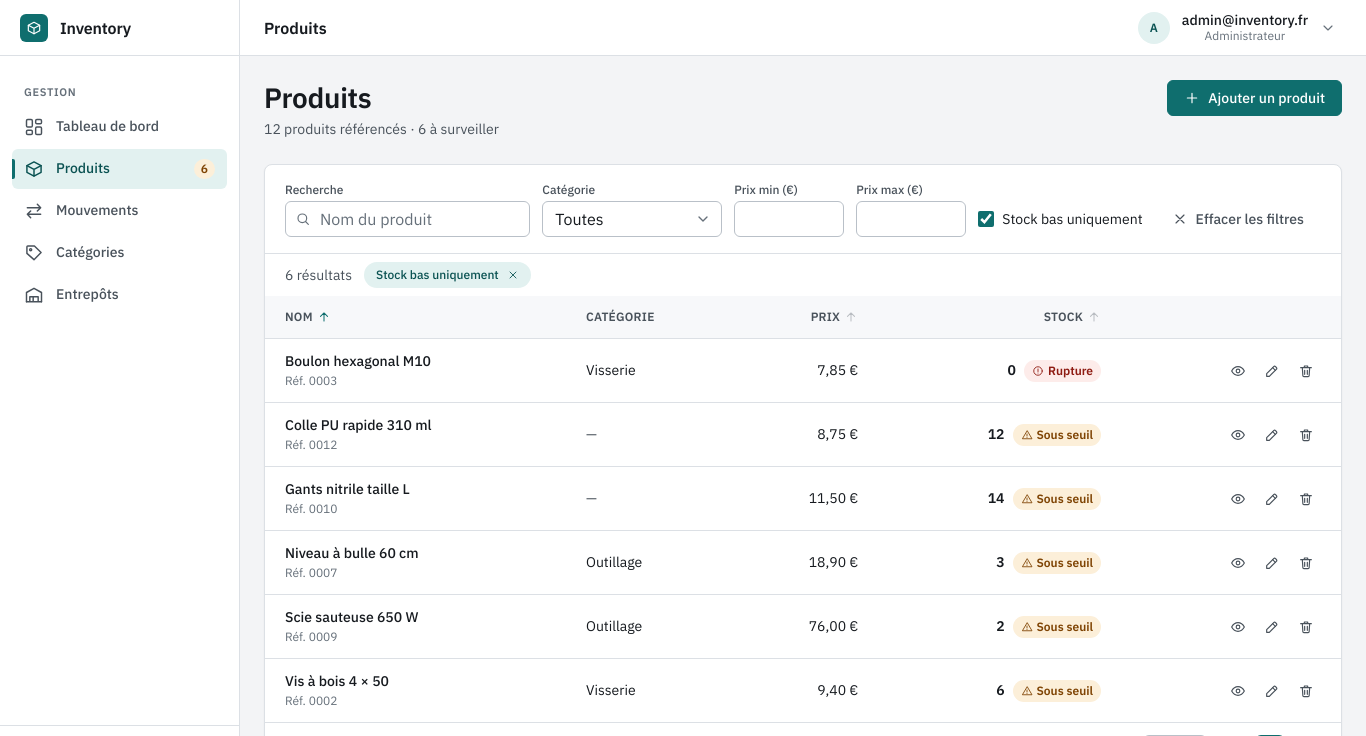
Test case: ProductsPage › search › clears a search typed just before « Effacer les filtres » is clicked
Expected: the heading "Produits" is shown, [264,79,372,116]
Expected: the text "6 résultats" is shown, [285,264,352,286]
In the search field labelled "Recherche": (408, 219) [285,201,530,237], type "vis"
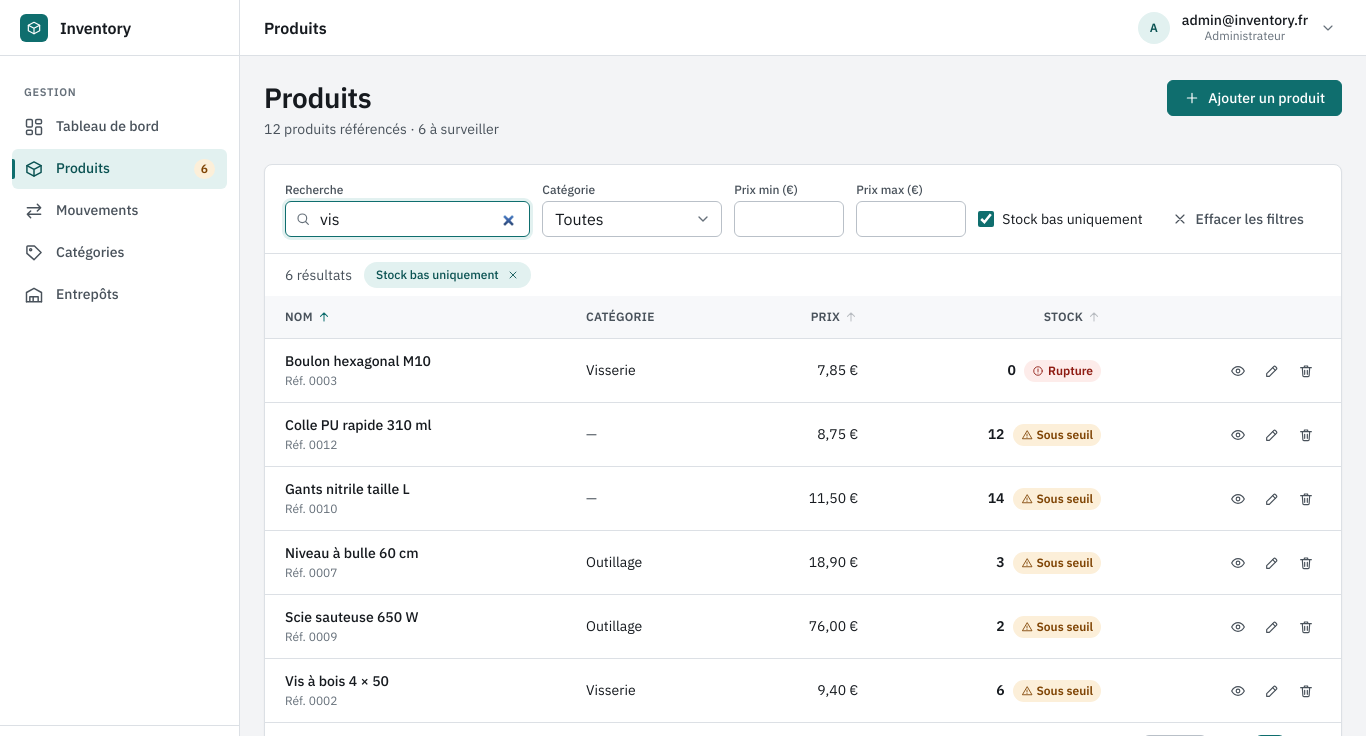
Click the button "Effacer les filtres": (1238, 219) [1155,201,1321,237]
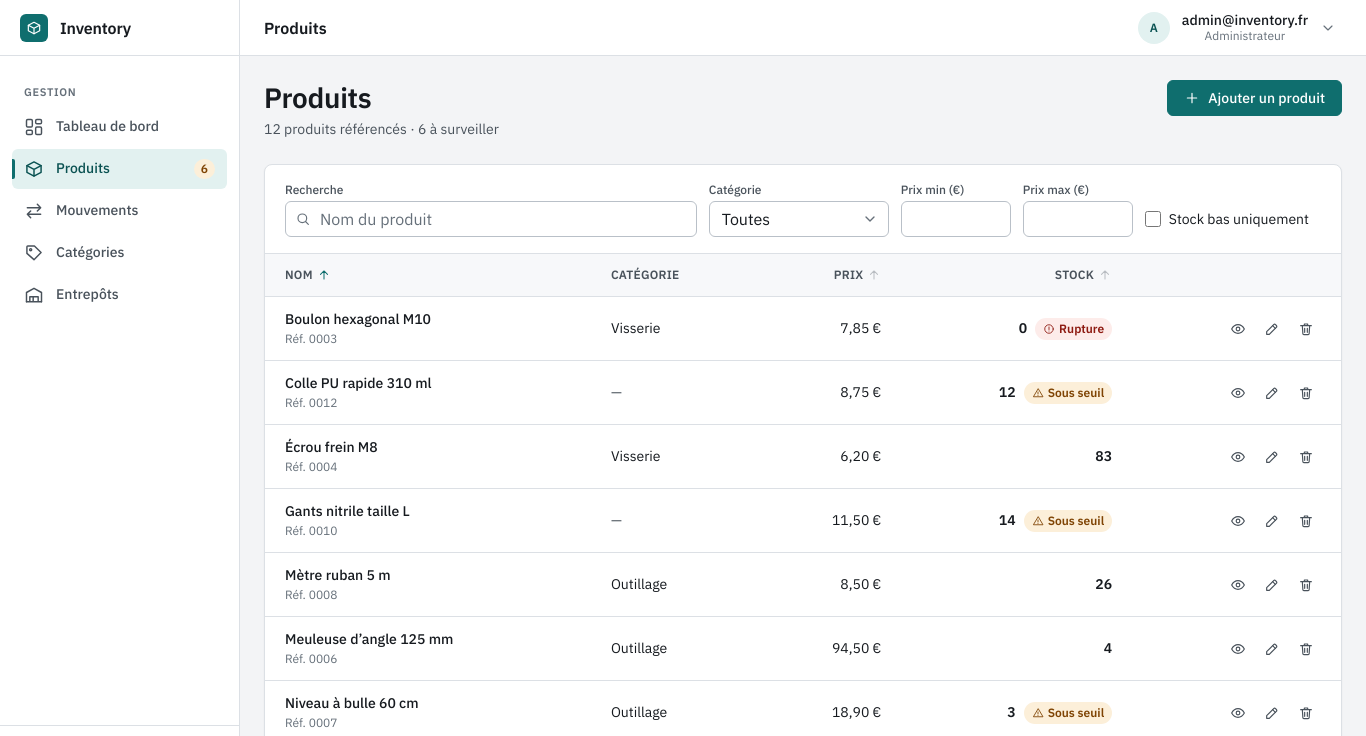
Expected: the search field labelled "Recherche" is empty, [285,201,697,237]
